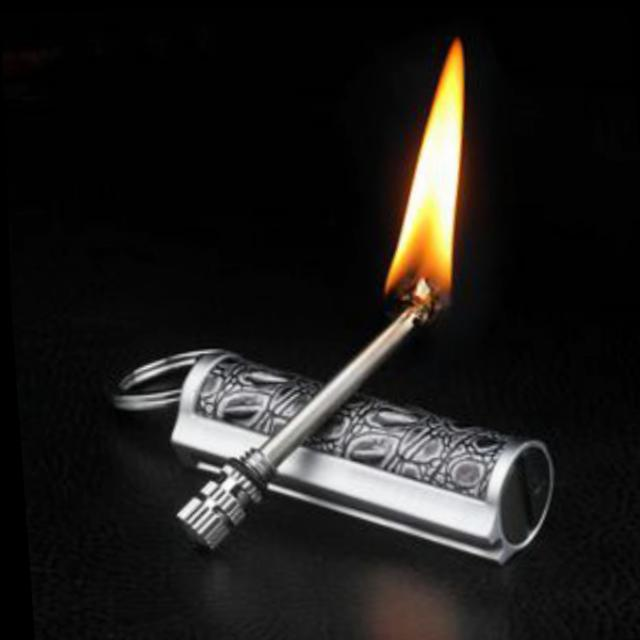fire: (366, 26, 479, 290)
